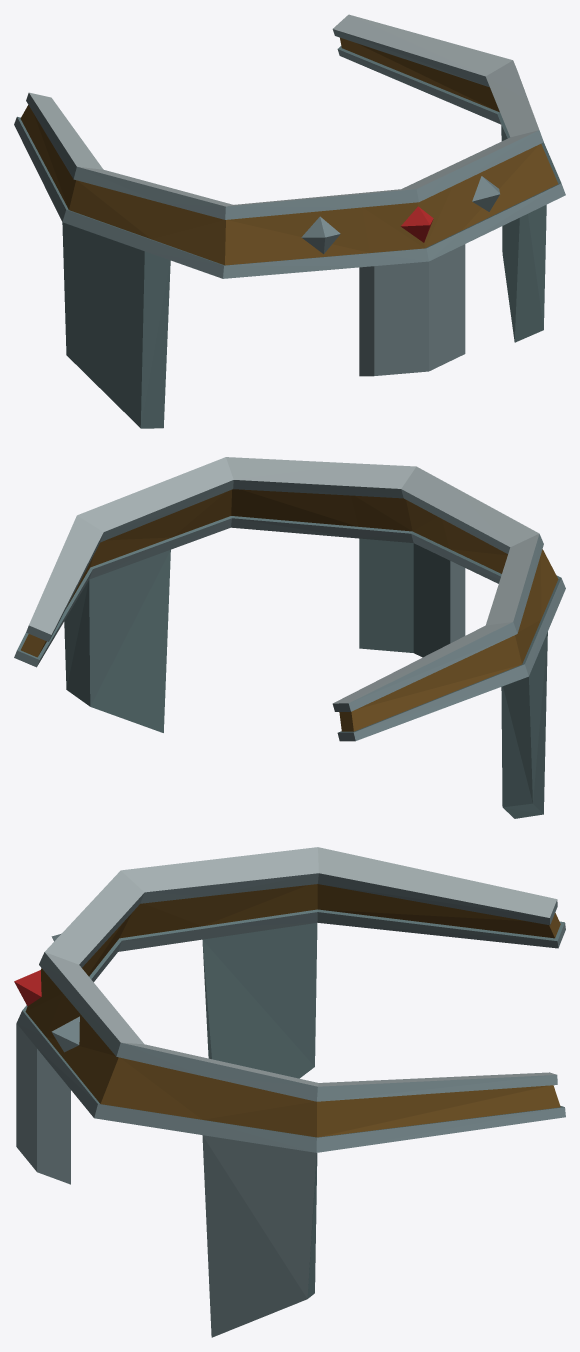
File: CircletGem.dae
The picture shows the model from 3 angles, top to bottom: view 1: azimuth 30°, elevation 25°; view 2: azimuth 150°, elevation 25°; view 3: azimuth 270°, elevation 25°; orthographic projection. The views are drawn at different scales.
Parts seen in each view (by area): view 1: CircletGem; view 2: CircletGem; view 3: CircletGem.
Boxes of the visible parts, x1,y1,x2,y2 form: CircletGem: (14, 14, 565, 428); CircletGem: (14, 457, 565, 818); CircletGem: (14, 847, 565, 1337).
Bounding box in the file's own units: 1.64 × 1.5 × 0.8514.
